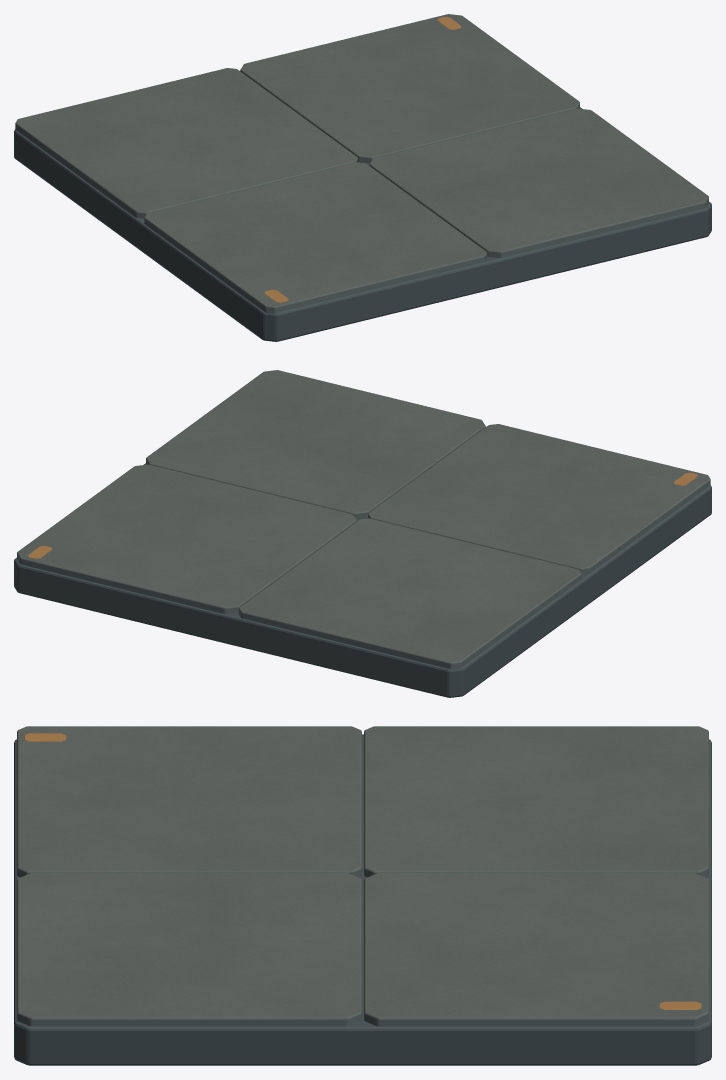
File: training_tile.glb
The picture shows the model from 3 angles, top to bottom: view 1: azimuth 30°, elevation 25°; view 2: azimuth 150°, elevation 25°; view 3: azimuth 270°, elevation 25°; orthographic projection. The views are drawn at different scales.
Parts seen in each view (by area): view 1: Dressed limestone 0, Dressed limestone 1, Dressed limestone 2, Dressed limestone 3, Recessed dark foundation; view 2: Dressed limestone 2, Dressed limestone 3, Dressed limestone 0, Dressed limestone 1, Recessed dark foundation; view 3: Dressed limestone 1, Dressed limestone 3, Dressed limestone 2, Dressed limestone 0, Recessed dark foundation.
Boxes of the visible parts, x1,y1,x2,y2 form: Dressed limestone 0: (144,162,487,313); Dressed limestone 1: (369,108,708,257); Dressed limestone 2: (15,68,357,218); Dressed limestone 3: (240,14,579,163); Recessed dark foundation: (14,70,711,341); Dressed limestone 2: (238,518,581,669); Dressed limestone 3: (17,464,356,613); Dressed limestone 0: (368,424,710,574); Dressed limestone 1: (146,370,485,519); Recessed dark foundation: (14,426,711,697); Dressed limestone 1: (17,873,361,1026); Dressed limestone 3: (364,873,708,1026); Dressed limestone 2: (364,726,708,877); Dressed limestone 0: (17,726,361,877); Recessed dark foundation: (14,734,711,1065).
Bounding box in the file's own units: 4 × 0.302 × 4.
Materials: 7 (4 with a texture image).
